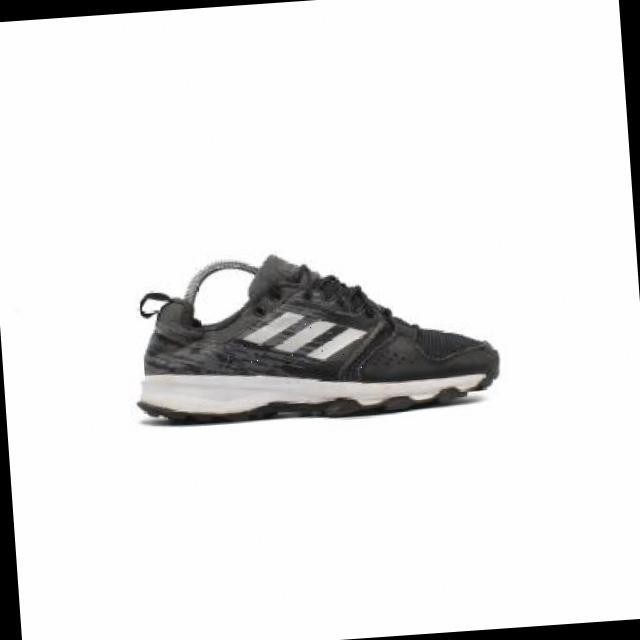Adidas: (240, 299, 376, 378)
